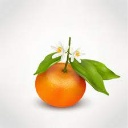orange: (34, 51, 87, 109)
